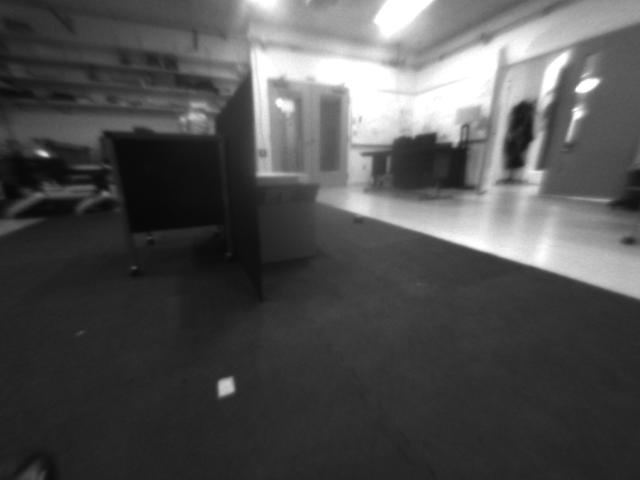dogtoy: (344, 209, 368, 229)
